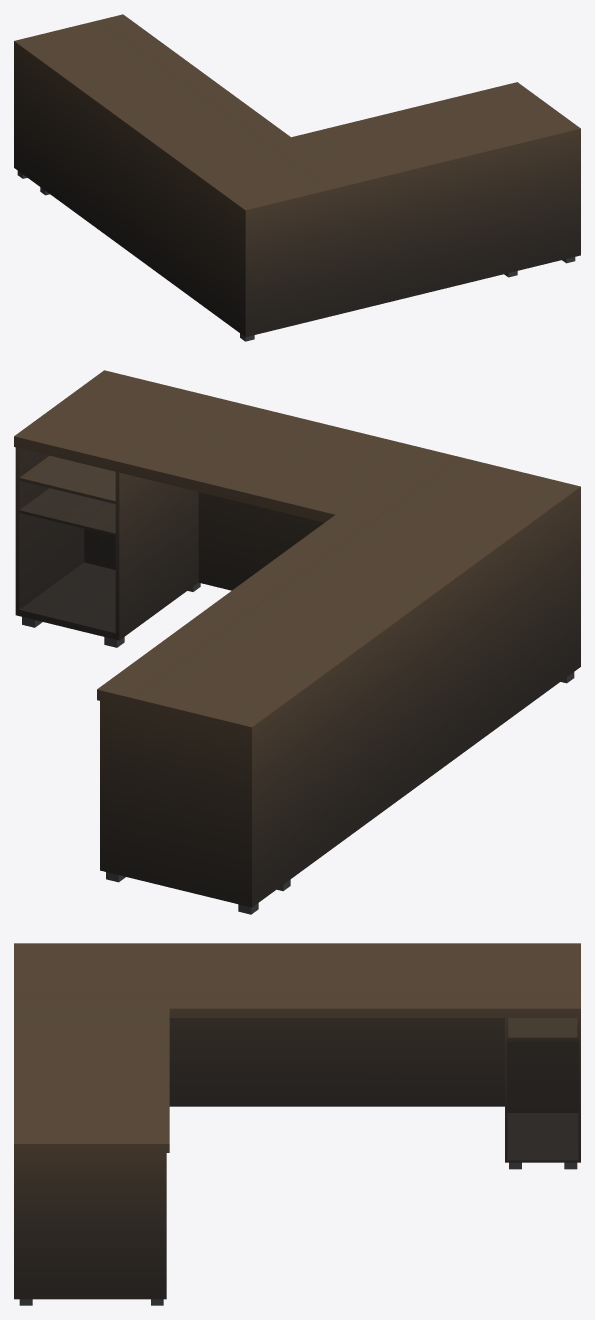
File: Desk_Corner_Booth_D_Open_Brown.fbx
The picture shows the model from 3 angles, top to bottom: view 1: azimuth 30°, elevation 25°; view 2: azimuth 150°, elevation 25°; view 3: azimuth 270°, elevation 25°; orthographic projection. The views are drawn at different scales.
Parts seen in each view (by area): view 1: Desk_Corner_Booth_D_Open_Brown; view 2: Desk_Corner_Booth_D_Open_Brown; view 3: Desk_Corner_Booth_D_Open_Brown.
Boxes of the visible parts, box(x1,y1,x2,y2) form: Desk_Corner_Booth_D_Open_Brown: box(14, 14, 580, 341); Desk_Corner_Booth_D_Open_Brown: box(14, 370, 580, 914); Desk_Corner_Booth_D_Open_Brown: box(14, 943, 580, 1305).
Size of the model in its own units: 184 by 70 by 220.
